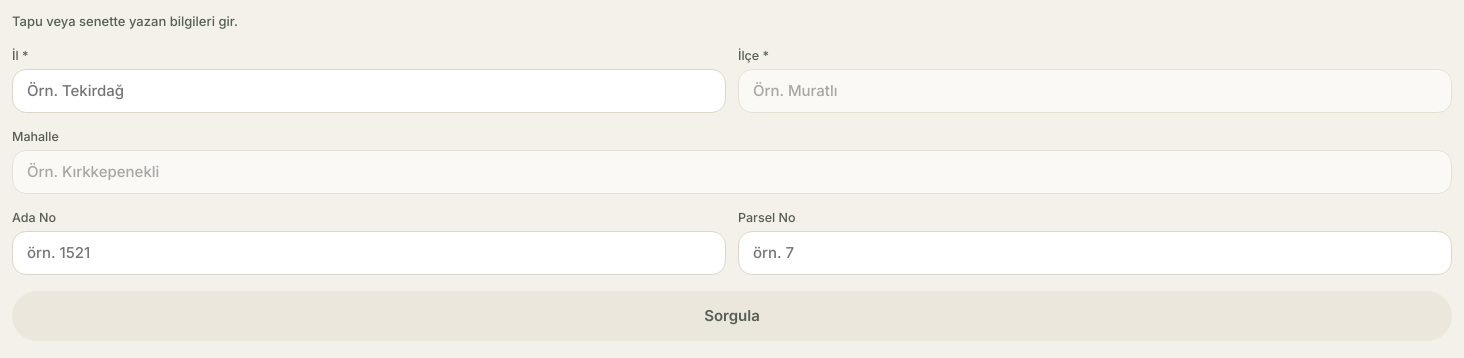
it: ManualParcelEntryForm › il secilince ilce listesi cekilir ve ilce alani etkinlesir
In the dropdown labelled "İl *": (369, 90) [12,68,726,112], type "Adana"
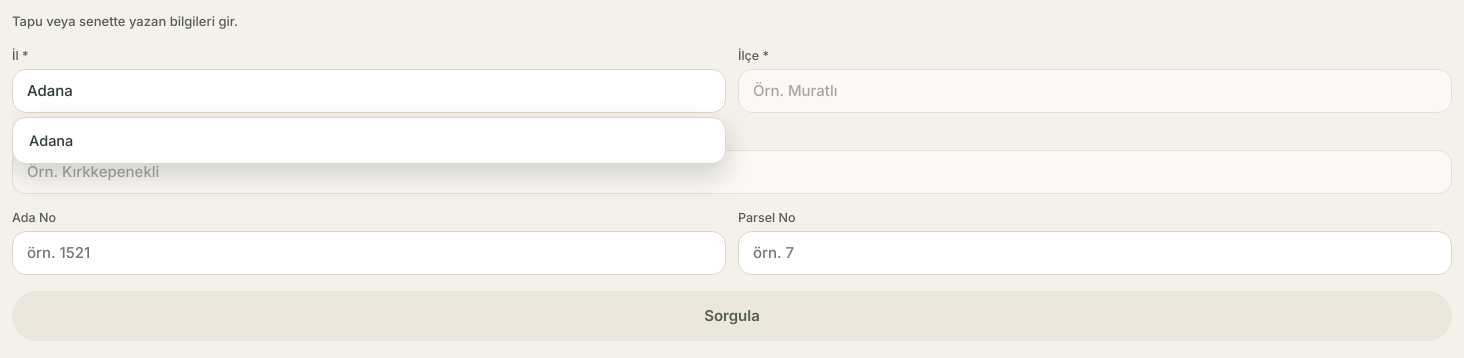
Click the option "Adana": (51, 140) [29,132,73,148]
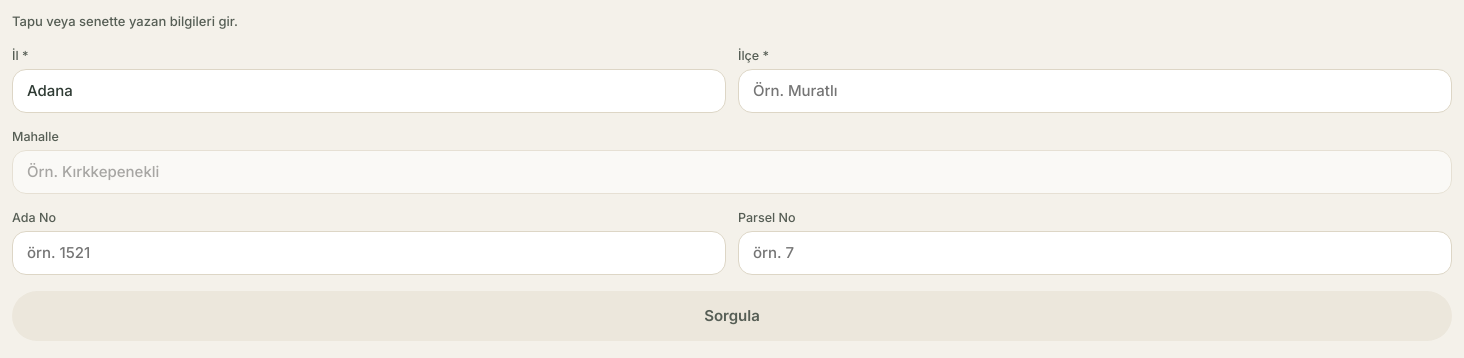
Now the dropdown labelled "İlçe *" is enabled, box [738,68,1452,112]
